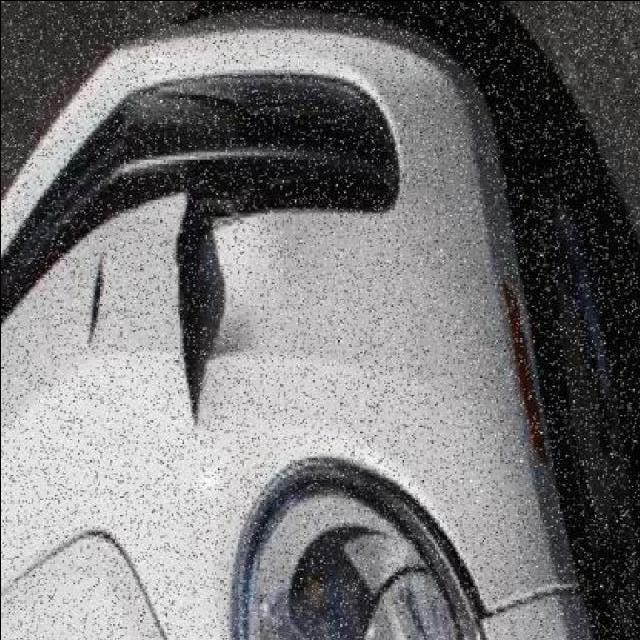front-bumper-dent: (63, 34, 522, 503)
